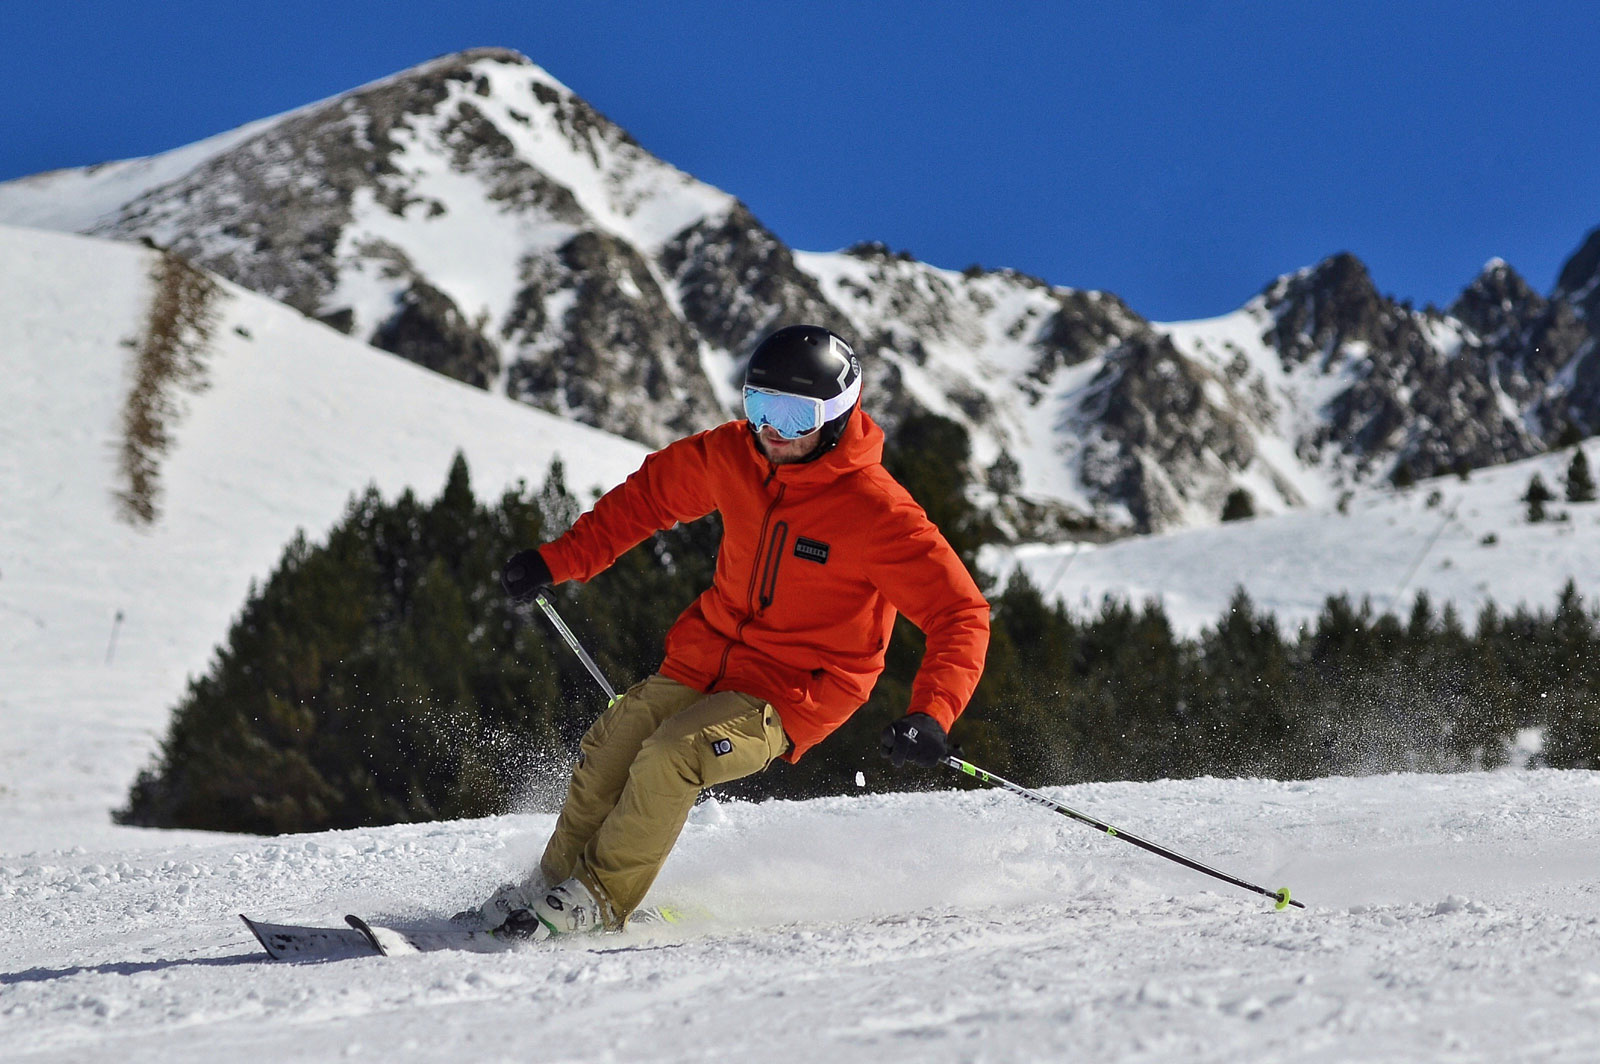skier: (239, 309, 1327, 982)
